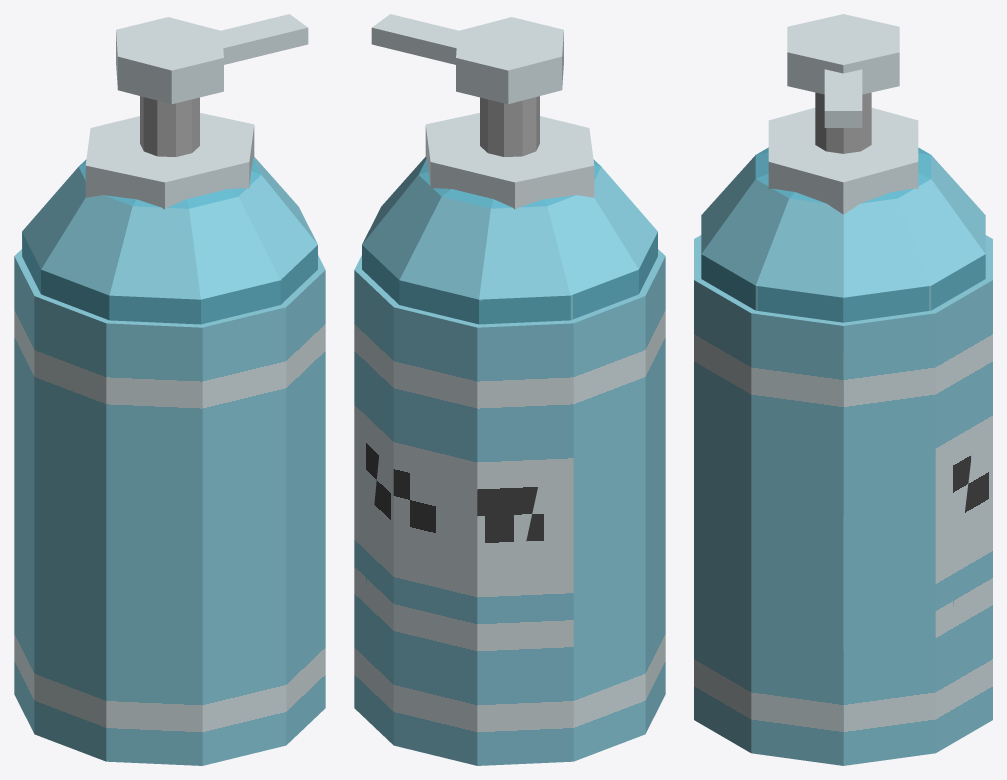
3 views of the same model, side by side, from view 1: azimuth 30°, elevation 25°; view 2: azimuth 150°, elevation 25°; view 3: azimuth 270°, elevation 25° (orthographic).
Parts seen in each view (by area): view 1: cylinder, sphere, cylinder_1, cylinder_3, cylinder_2, cuboid; view 2: cylinder, sphere, cylinder_1, cylinder_3, cylinder_2, cuboid; view 3: cylinder, sphere, cylinder_1, cylinder_3, cuboid, cylinder_2.
Boxes of the visible parts, x1=… form: cylinder: x1=14, y1=249, x2=325, y2=765; sphere: x1=22, y1=157, x2=317, y2=324; cylinder_1: x1=85, y1=113, x2=254, y2=209; cylinder_3: x1=116, y1=17, x2=223, y2=104; cylinder_2: x1=140, y1=96, x2=199, y2=156; cuboid: x1=221, y1=14, x2=308, y2=64; cylinder: x1=354, y1=249, x2=665, y2=765; sphere: x1=362, y1=157, x2=657, y2=324; cylinder_1: x1=425, y1=113, x2=594, y2=209; cylinder_3: x1=456, y1=17, x2=563, y2=104; cylinder_2: x1=480, y1=96, x2=539, y2=156; cuboid: x1=371, y1=14, x2=458, y2=64; cylinder: x1=694, y1=235, x2=992, y2=765; sphere: x1=701, y1=147, x2=985, y2=322; cylinder_1: x1=768, y1=107, x2=918, y2=214; cylinder_3: x1=787, y1=14, x2=899, y2=94; cuboid: x1=824, y1=69, x2=862, y2=127; cylinder_2: x1=815, y1=92, x2=871, y2=153.
Size of the model in its own units: 65.72 by 152 by 62.5.
Materials: 1 (1 with a texture image).
